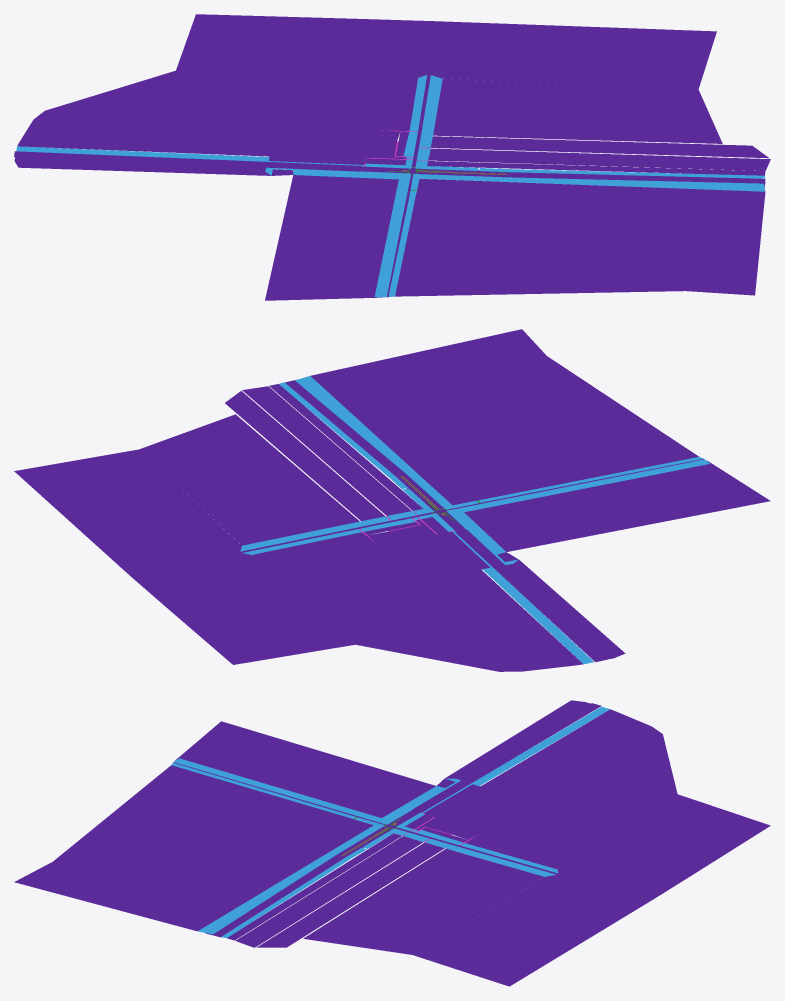
The model's file is Roads.fbx.
3 views of the same model, one above another, from view 1: azimuth 30°, elevation 25°; view 2: azimuth 150°, elevation 25°; view 3: azimuth 270°, elevation 25° (orthographic). The views are drawn at different scales.
Visible parts, largest first — view 1: Roads; view 2: Roads; view 3: Roads.
Boxes of the visible parts, x1,y1,x2,y2 form: Roads: (14,14,770,300); Roads: (14,329,770,671); Roads: (14,700,770,986).
Size of the model in its own units: 145490 by 162 by 162538.
